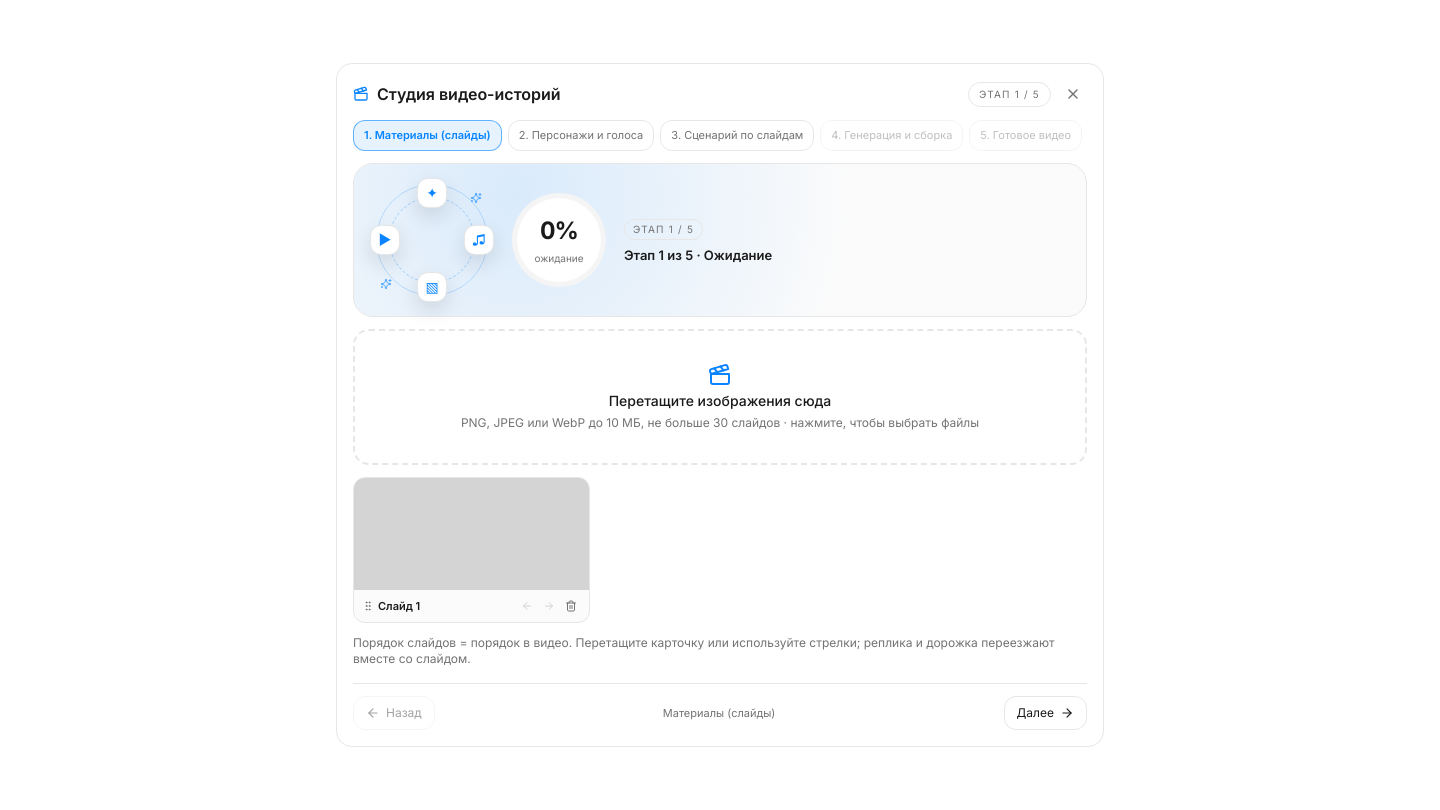
Test case: студия: этап 4 — генерация и сборка › если браузер не умеет писать видео, причина понятна
Earlier steps of the test are not shown.
Click the button with test id "story-stage-3" at (737, 136), box [660, 120, 814, 151]
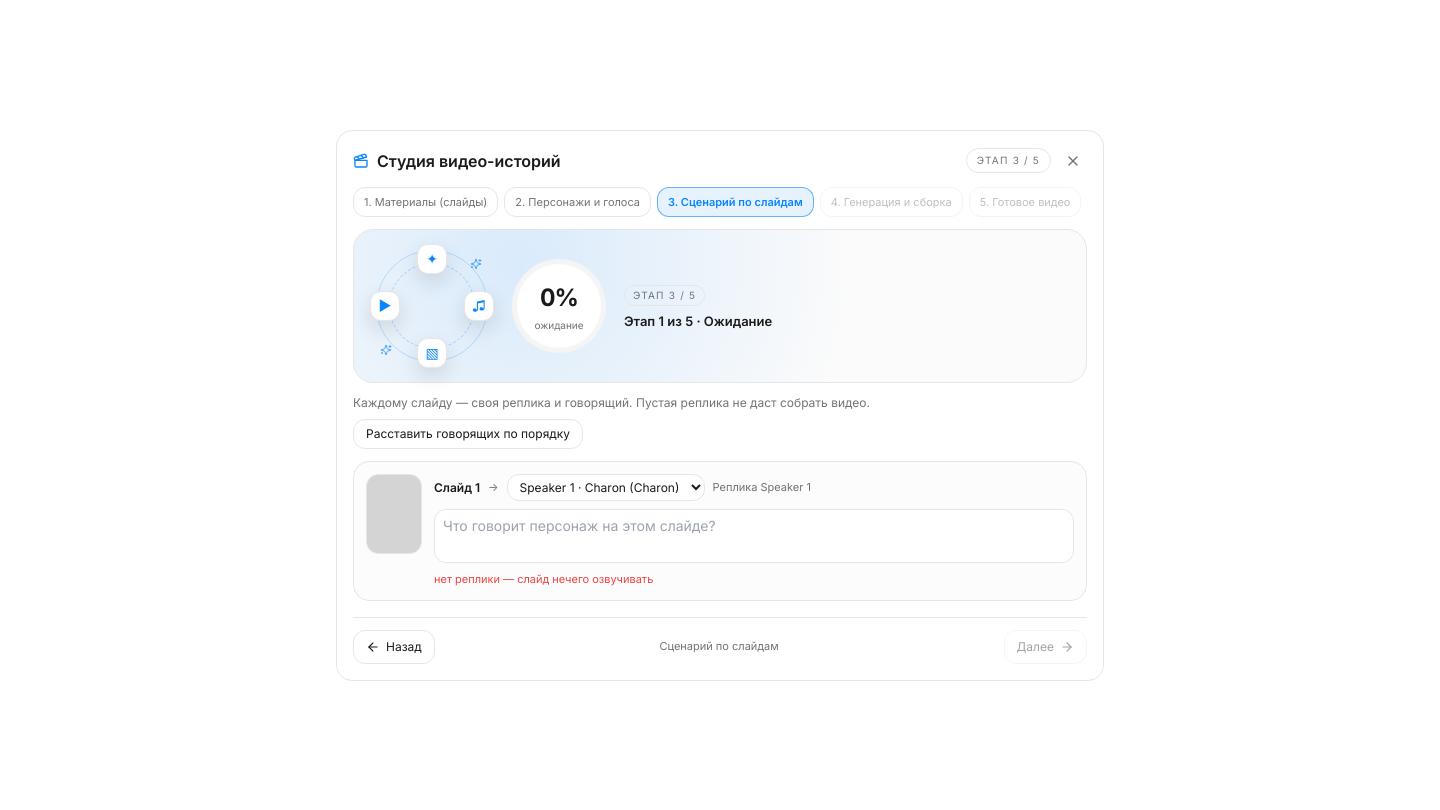
Check: the text box with test id "story-script-1" is shown
Type "Реплика слайда 1" into the text box with test id "story-script-1" at (754, 536), box [434, 509, 1074, 563]
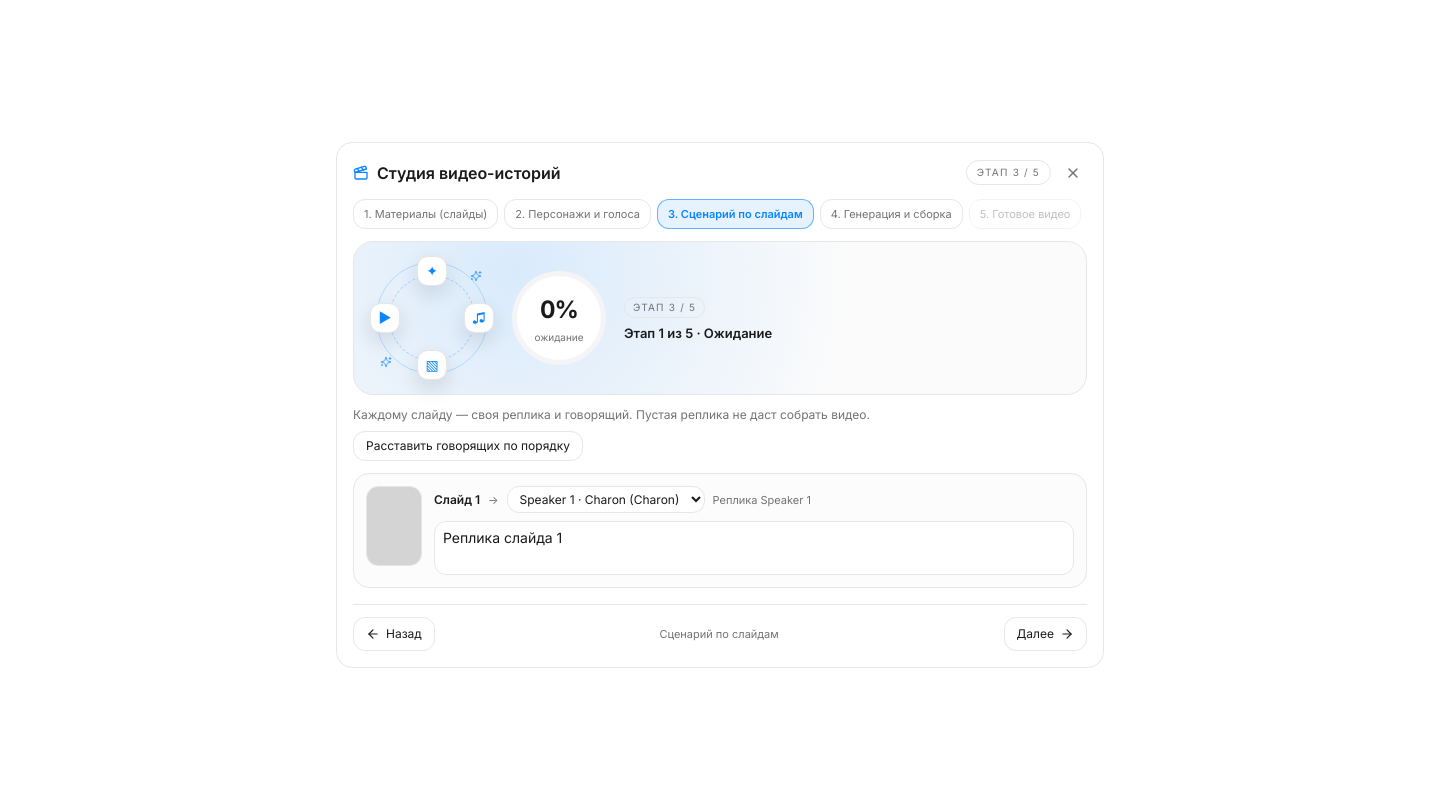
Click the button with test id "story-stage-4" at (891, 214), box [820, 199, 963, 229]
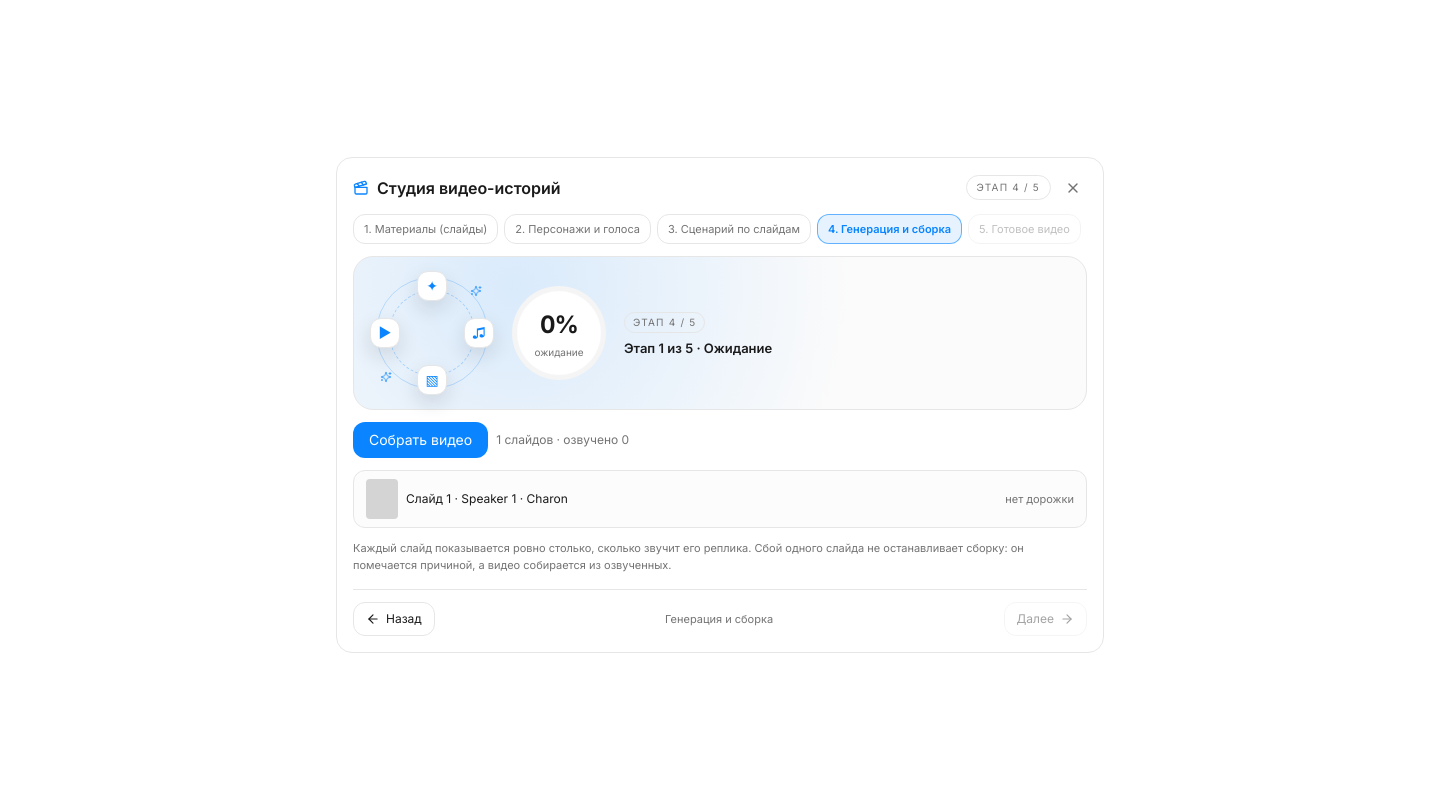
Click the button with test id "story-generate" at (421, 440), box [353, 422, 488, 458]
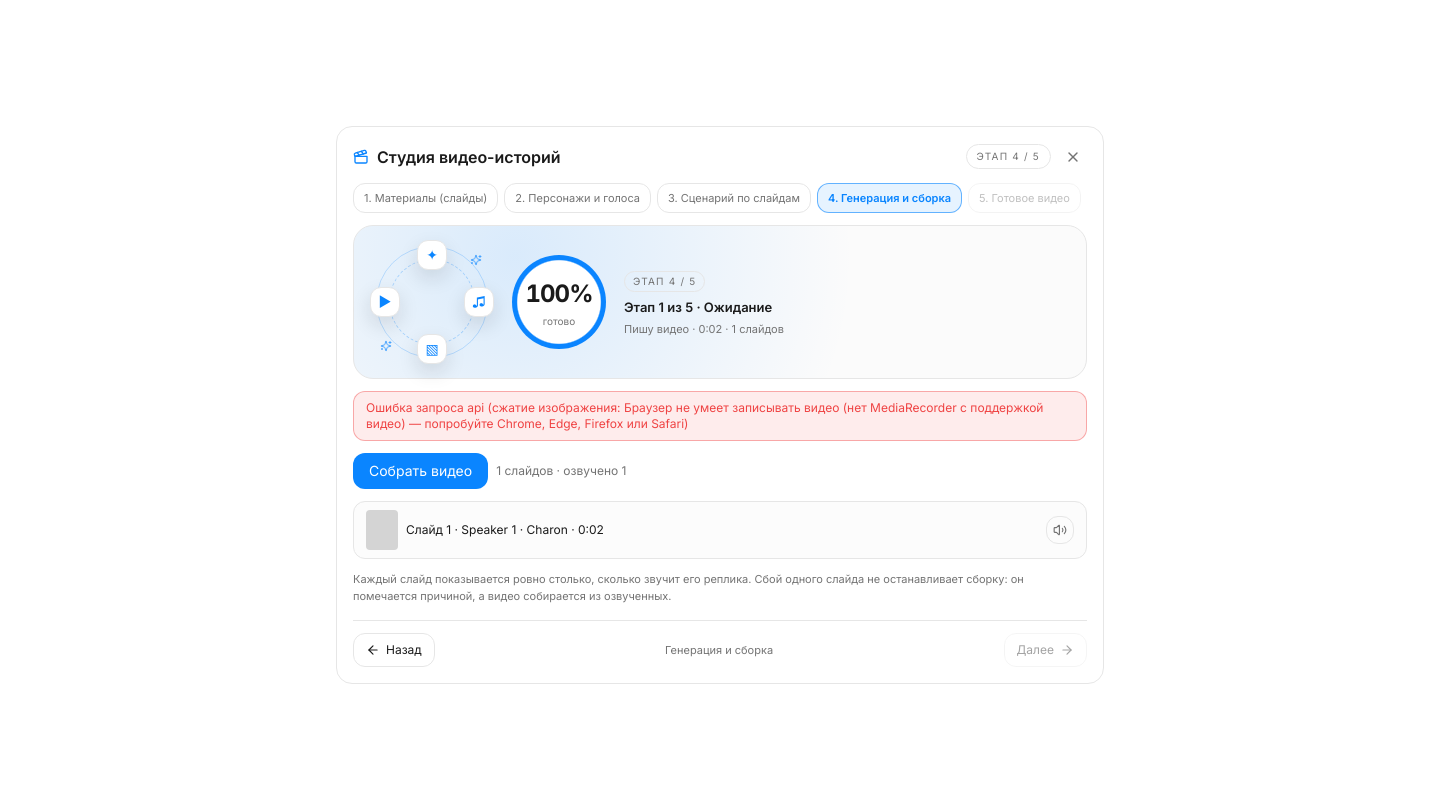
Check: the message with test id "story-error" is shown, box [353, 391, 1087, 441]
